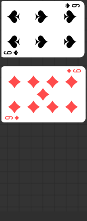6S: (64, 2, 81, 9)
9D: (66, 67, 83, 74)
